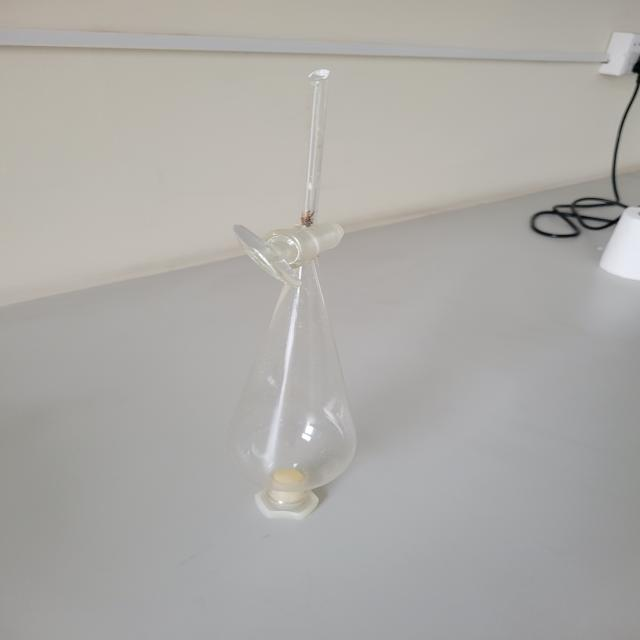Separating_Funnel: (193, 51, 426, 559)
